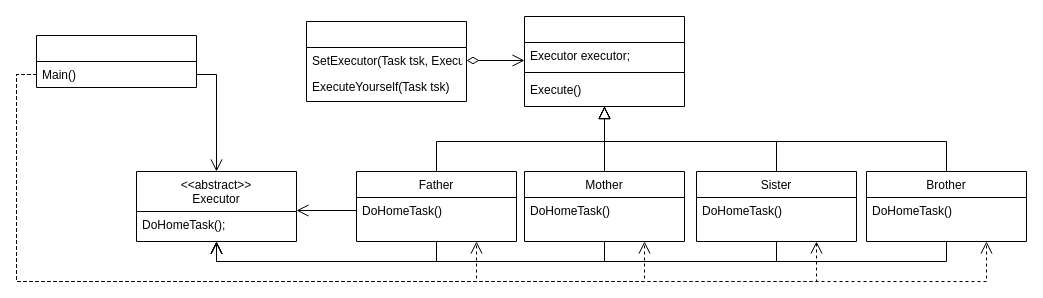
Image size: 1043x298. Some labels were removed from this diagram. The box of each missing label's shape, as (x1, y1, x2, y2) in pixels:
Client: (36, 34, 196, 88)
Student: (306, 20, 466, 102)
Task: (524, 16, 684, 106)
